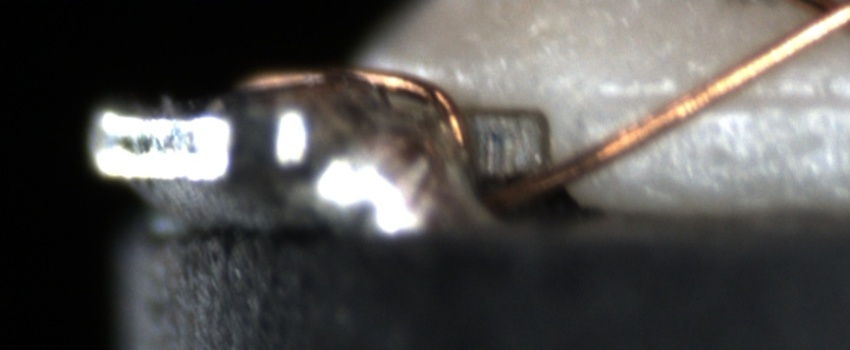CL: (790, 0, 850, 46)
DL: (590, 65, 850, 129)
TE: (233, 62, 477, 152)
